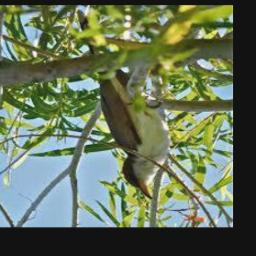Cuckoo: (76, 10, 170, 200)
